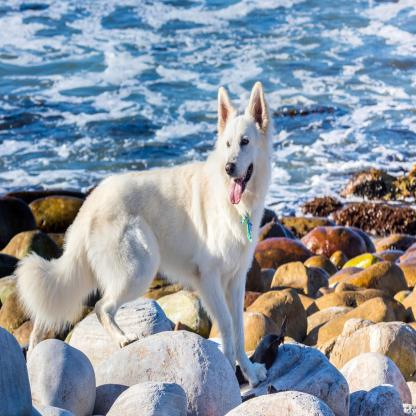dog: (12, 79, 277, 386)
